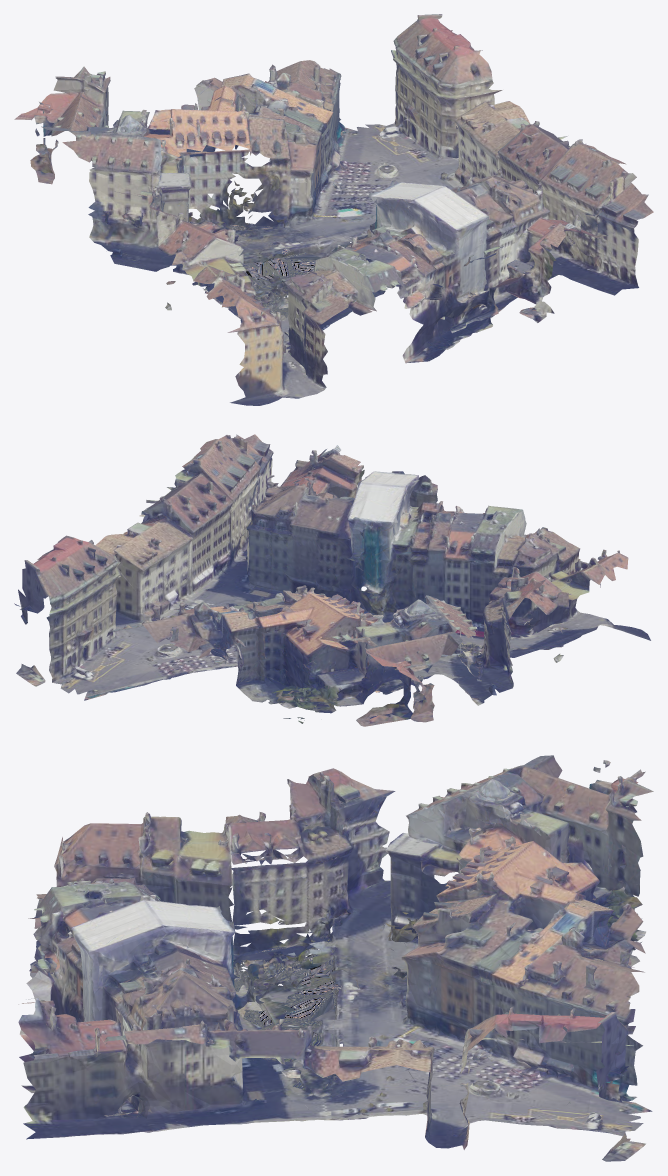
3 views of the same model, one above another, from view 1: azimuth 30°, elevation 25°; view 2: azimuth 150°, elevation 25°; view 3: azimuth 270°, elevation 25° (orthographic). The views are drawn at different scales.
Size of the model in its own units: 109 by 37.23 by 108.
Materials: 1 (1 with a texture image).
